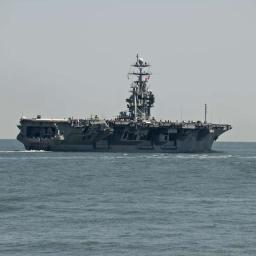Portanaves: (16, 55, 237, 155)
